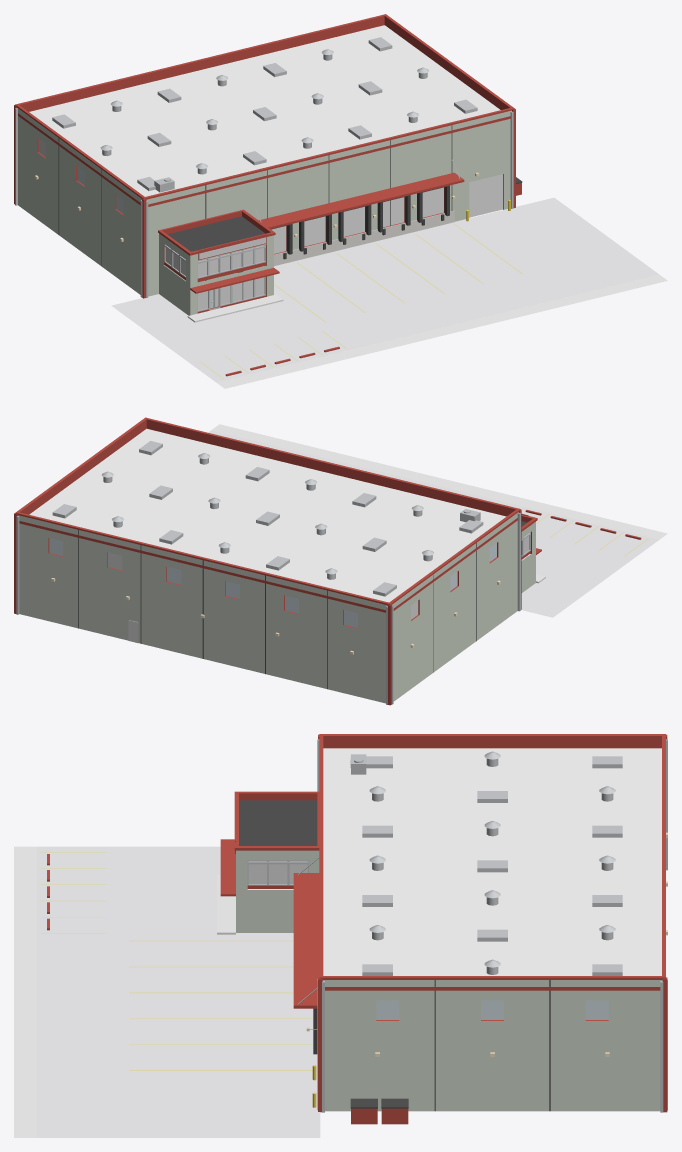
The model's file is industrial_wh150.glb.
3 renders of one model, top to bottom at view 1: azimuth 30°, elevation 25°; view 2: azimuth 150°, elevation 25°; view 3: azimuth 270°, elevation 25°, orthographic. The views are drawn at different scales.
Visible parts, largest first — view 1: industrial_wh150_Asphalt, industrial_wh150_Roof, industrial_wh150_Walls, industrial_wh150_Trim, industrial_wh150_Site, industrial_wh150_Roof2, industrial_wh150_Doors, industrial_wh150_Frames, industrial_wh150_Details, industrial_wh150_WindowsLit, industrial_wh150_Walls2, industrial_wh150_Paint; view 2: industrial_wh150_Walls, industrial_wh150_Roof, industrial_wh150_Trim, industrial_wh150_Asphalt, industrial_wh150_Site, industrial_wh150_Frames, industrial_wh150_Details, industrial_wh150_Glass, industrial_wh150_Roof2, industrial_wh150_WindowsLit; view 3: industrial_wh150_Roof, industrial_wh150_Asphalt, industrial_wh150_Walls, industrial_wh150_Trim, industrial_wh150_Site, industrial_wh150_Roof2, industrial_wh150_Frames, industrial_wh150_Details, industrial_wh150_Paint, industrial_wh150_Glass, industrial_wh150_WindowsLit.
Boxes of the visible parts, x1,y1,x2,y2 form: industrial_wh150_Asphalt: (111,197,658,382); industrial_wh150_Roof: (29,25,500,196); industrial_wh150_Walls: (17,108,511,315); industrial_wh150_Trim: (14,14,521,376); industrial_wh150_Site: (187,274,667,388); industrial_wh150_Roof2: (58,125,522,280); industrial_wh150_Doors: (271,174,502,253); industrial_wh150_Frames: (52,37,477,311); industrial_wh150_Details: (15,49,513,302); industrial_wh150_WindowsLit: (38,138,264,310); industrial_wh150_Walls2: (238,210,454,272); industrial_wh150_Paint: (200,224,522,379); industrial_wh150_Walls: (18,512,535,703); industrial_wh150_Roof: (29,428,506,602); industrial_wh150_Trim: (14,417,641,705); industrial_wh150_Asphalt: (208,430,658,617); industrial_wh150_Site: (211,424,667,583); industrial_wh150_Frames: (52,441,530,596); industrial_wh150_Details: (16,453,520,704); industrial_wh150_Glass: (49,538,496,627); industrial_wh150_Roof2: (78,521,527,689); industrial_wh150_WindowsLit: (108,536,529,619); industrial_wh150_Roof: (323,748,661,975); industrial_wh150_Asphalt: (37,846,320,1137); industrial_wh150_Walls: (236,850,662,1111); industrial_wh150_Trim: (47,734,667,1124); industrial_wh150_Site: (14,846,235,1137); industrial_wh150_Roof2: (239,800,550,1111); industrial_wh150_Frames: (247,756,622,975); industrial_wh150_Details: (298,739,667,1112); industrial_wh150_Paint: (40,852,312,1070); industrial_wh150_Glass: (376,1000,608,1019); industrial_wh150_WindowsLit: (248,861,307,883).
Bounding box in the file's own units: 180 × 39.1 × 171.
